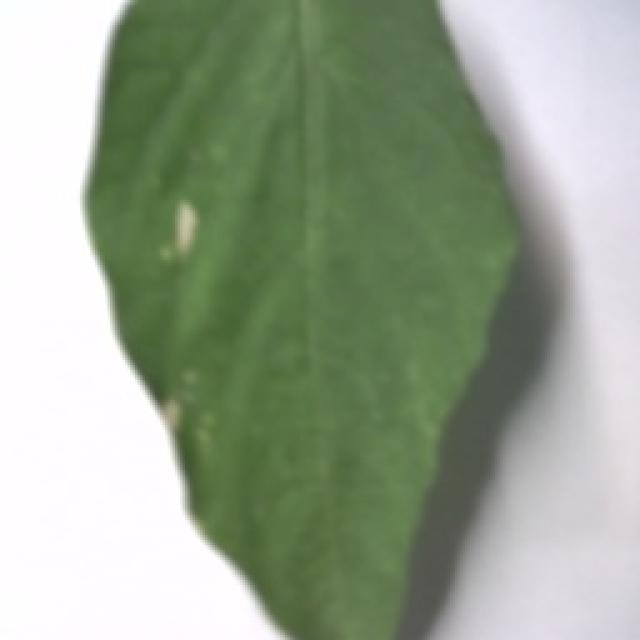Leaf: (81, 1, 518, 640)
